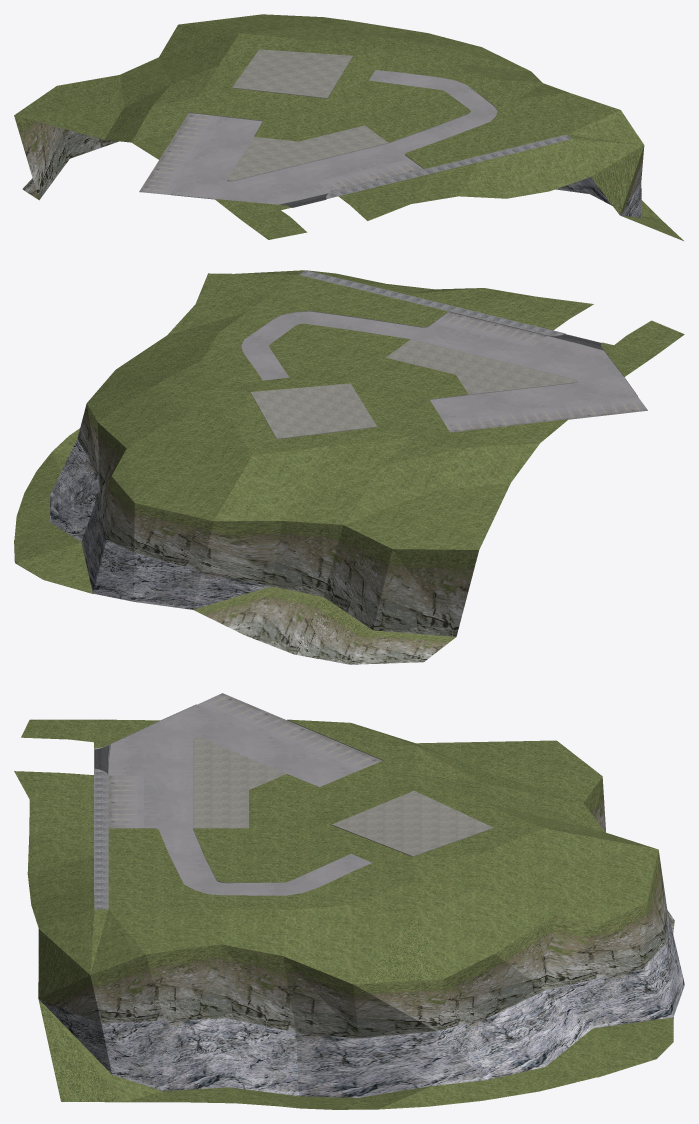
Rendered from radar_bit_01.obj.
3 views of the same model, one above another, from view 1: azimuth 30°, elevation 25°; view 2: azimuth 150°, elevation 25°; view 3: azimuth 270°, elevation 25° (orthographic). The views are drawn at different scales.
Visible parts, largest first — view 1: radar_bit_01; view 2: radar_bit_01; view 3: radar_bit_01.
Part boxes in pixels (<box>): radar_bit_01: <box>14,14,683,240</box>; radar_bit_01: <box>14,270,684,664</box>; radar_bit_01: <box>14,693,684,1109</box>.
Size of the model in its own units: 186 by 47.73 by 184.
Materials: 9 (9 with a texture image).
